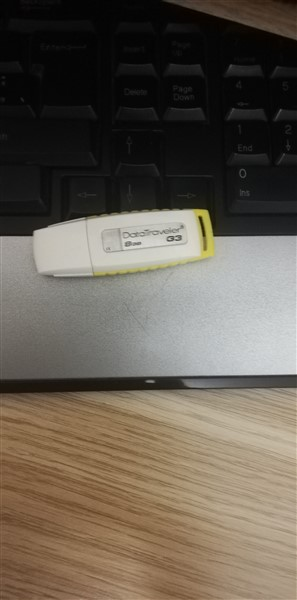flash disk: (29, 203, 220, 281)
klavye: (1, 1, 296, 397)
